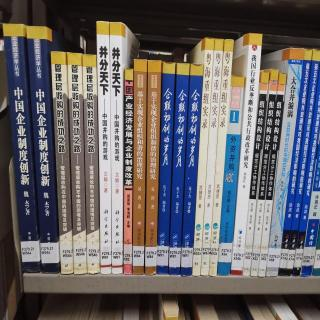book-spine: (2, 22, 42, 274), (263, 48, 305, 277), (228, 33, 263, 277), (27, 26, 61, 275), (284, 50, 320, 278), (278, 48, 312, 278), (247, 67, 280, 278), (207, 38, 235, 277), (198, 39, 224, 276), (216, 73, 246, 278), (191, 36, 216, 275), (257, 72, 286, 277), (49, 50, 75, 277), (241, 71, 269, 278), (178, 63, 203, 276), (167, 62, 190, 276), (153, 63, 176, 276), (80, 53, 101, 276), (68, 52, 88, 275), (96, 22, 111, 275), (131, 58, 148, 276), (109, 21, 123, 276), (144, 61, 160, 276), (121, 68, 133, 274)
